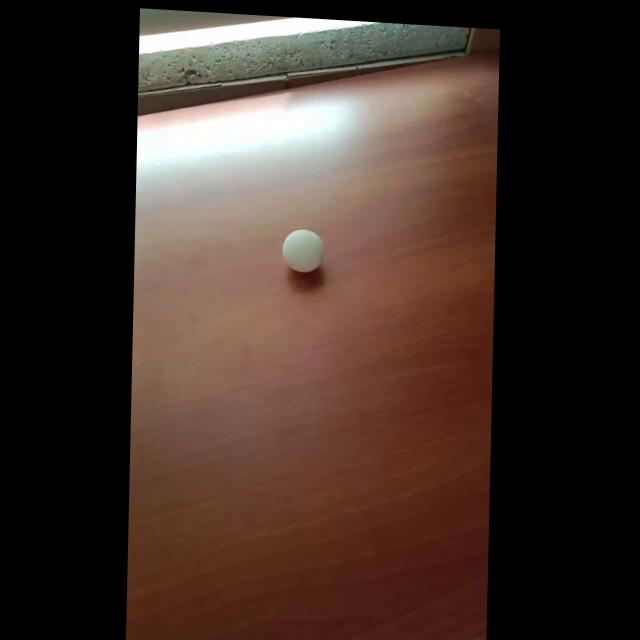white ball: (281, 227, 324, 273)
